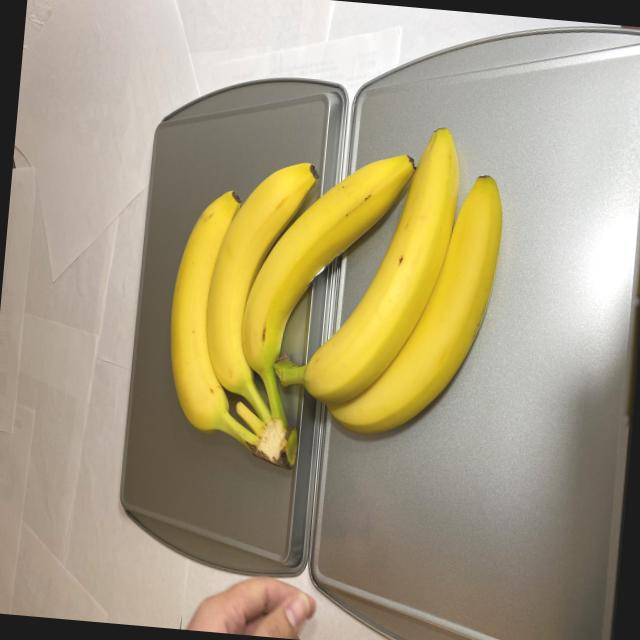banana: (157, 99, 509, 486)
